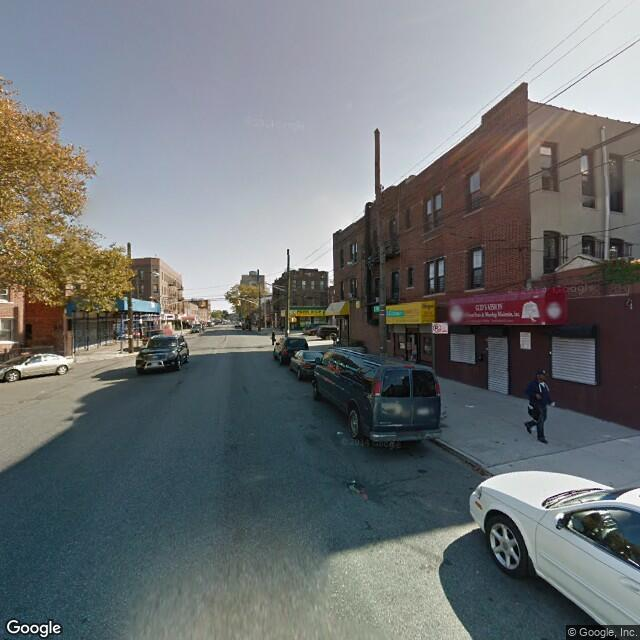litter: (466, 402, 476, 408), (337, 431, 341, 434)
